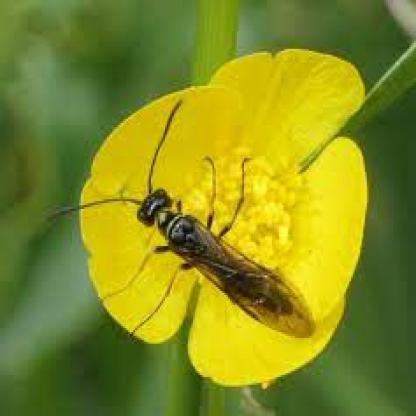sawfly: (74, 117, 330, 341)
